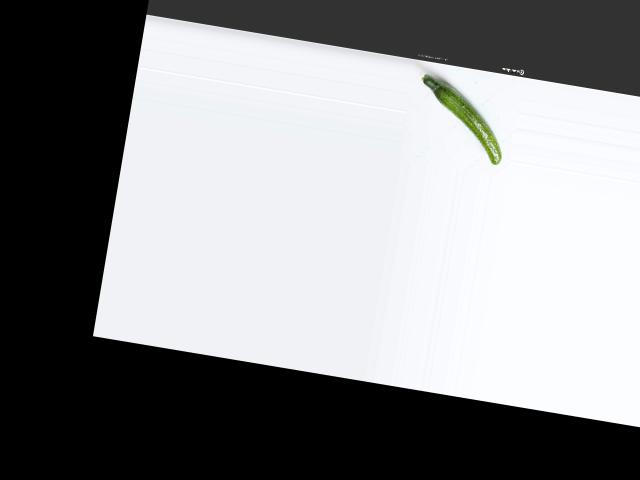cucumber: (409, 73, 512, 165)
